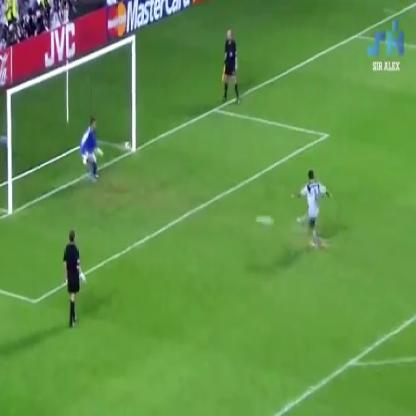penalty kick: (6, 61, 336, 276)
